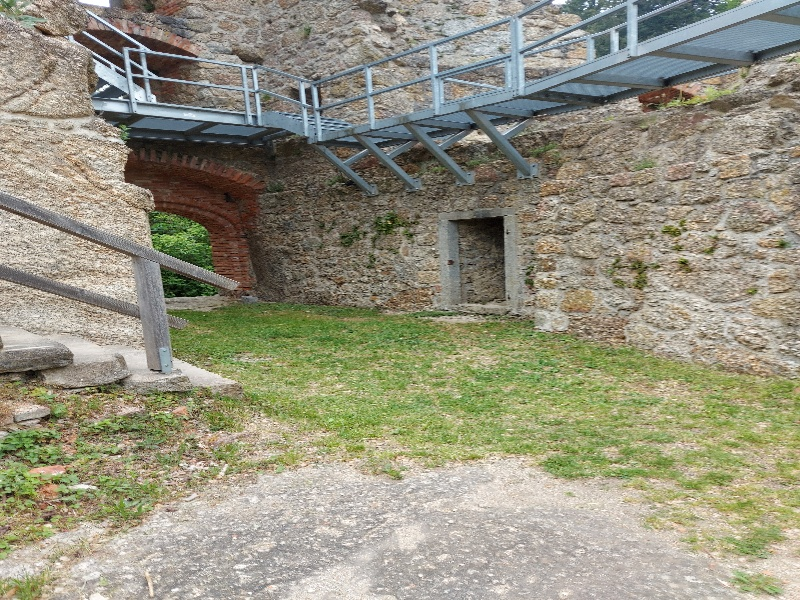door1: (432, 197, 523, 322)
